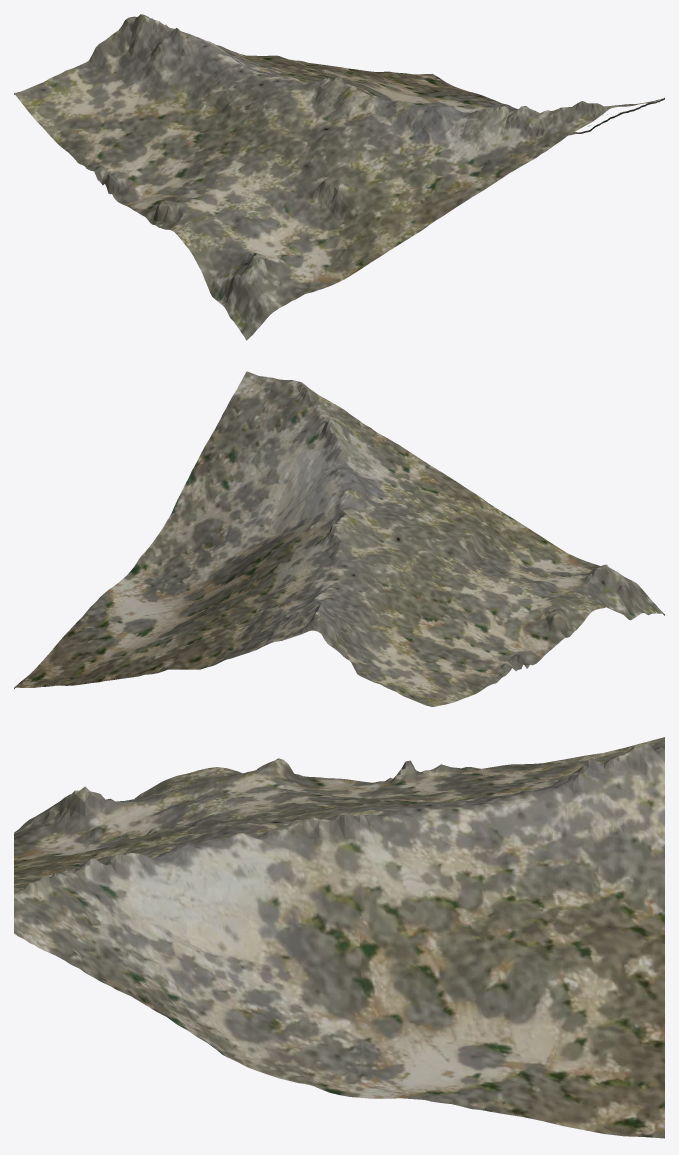
The picture shows the model from 3 angles, top to bottom: view 1: azimuth 30°, elevation 25°; view 2: azimuth 150°, elevation 25°; view 3: azimuth 270°, elevation 25°; orthographic projection. The views are drawn at different scales.
Size of the model in its own units: 250 by 88.21 by 241.
Materials: 1 (1 with a texture image).
